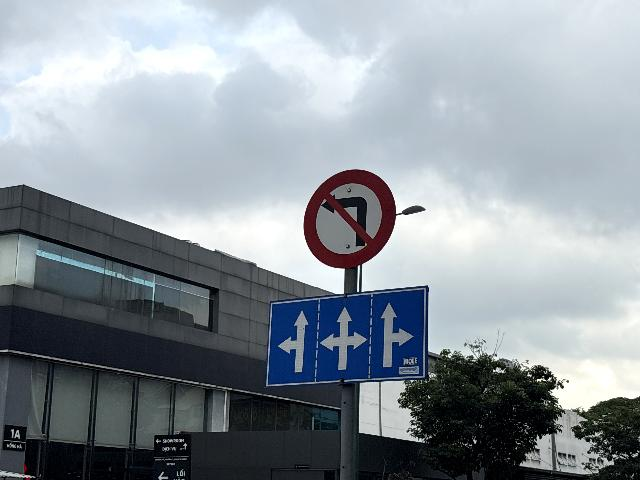cam-re-trai: (304, 167, 397, 269)
